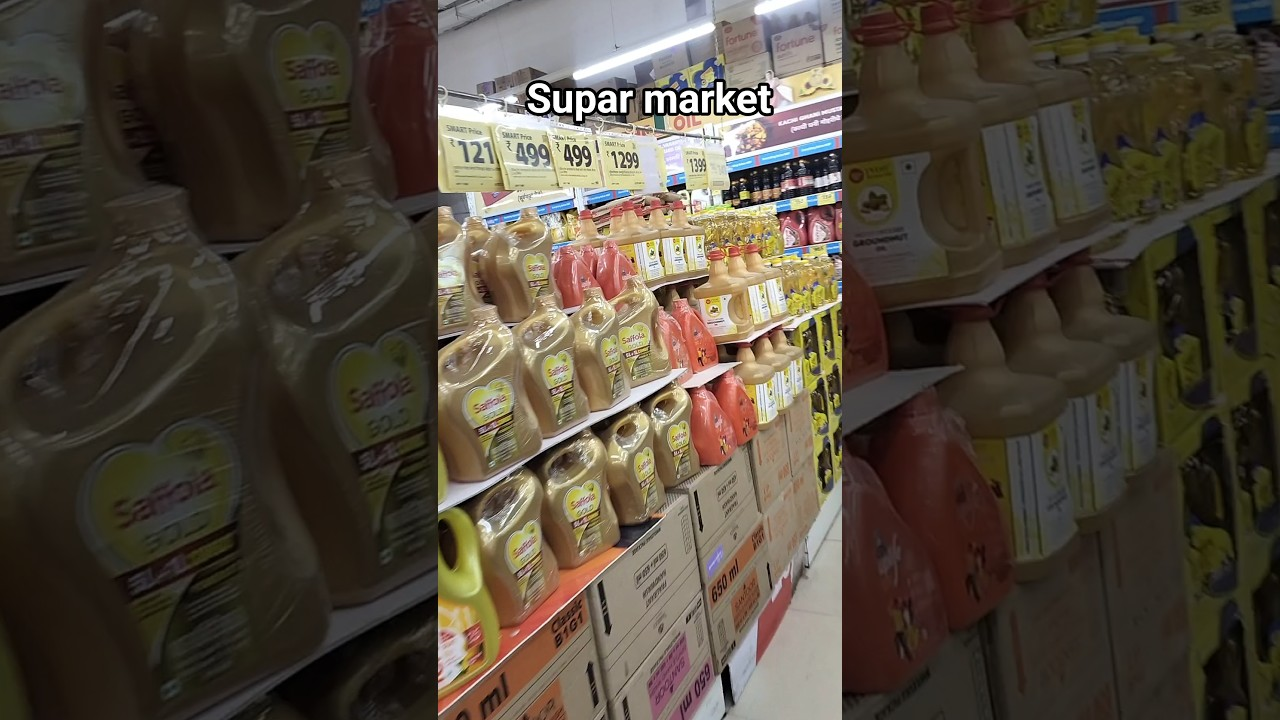saffola: (437, 229, 693, 627)
